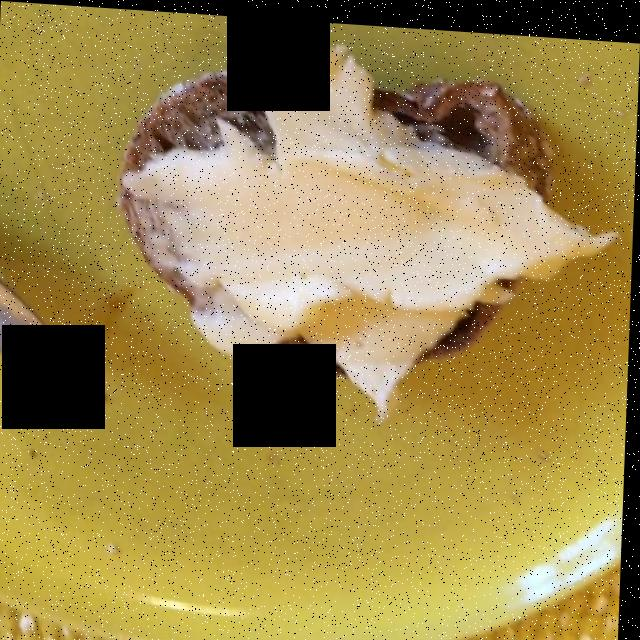bread-wholemeal: (127, 36, 601, 393)
butter: (136, 46, 618, 385)
